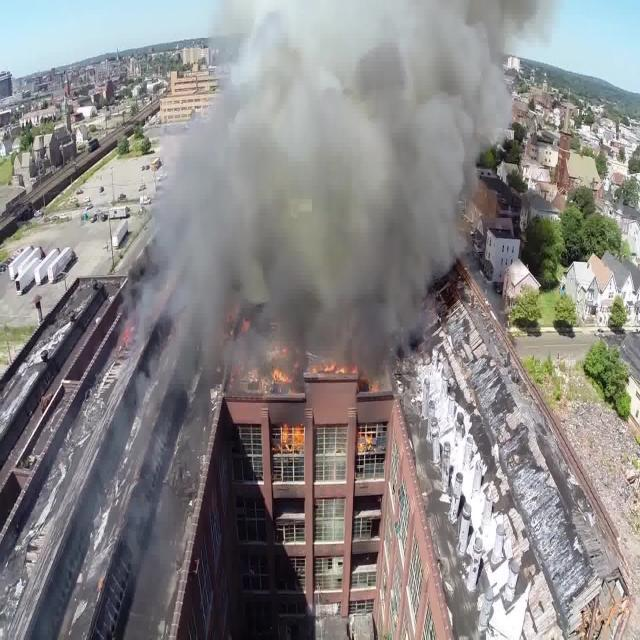Smoke: (162, 13, 474, 347)
